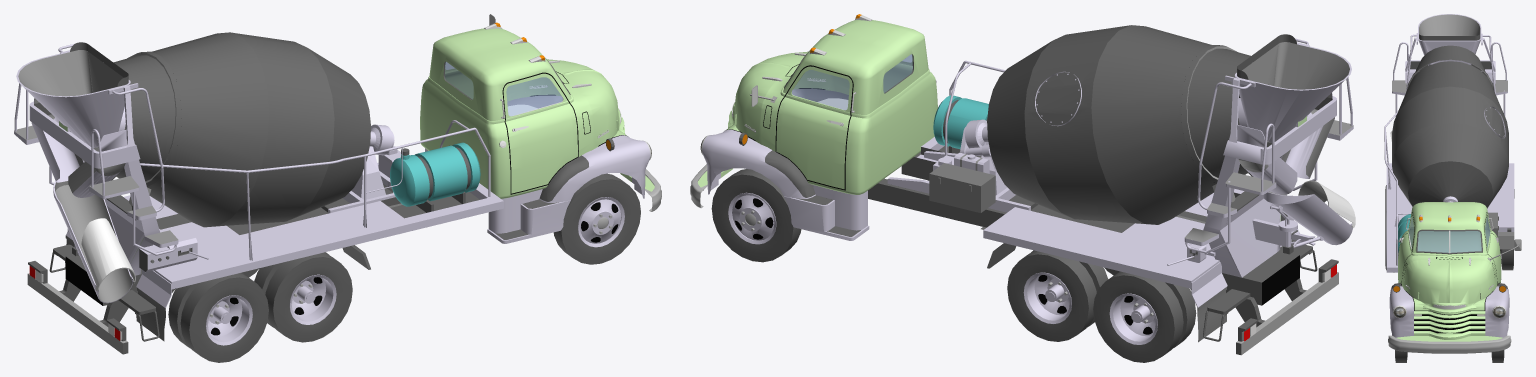
The model's file is concrete-mixer-truck.glb.
3 renders of one model, left to right at view 1: azimuth 30°, elevation 25°; view 2: azimuth 150°, elevation 25°; view 3: azimuth 270°, elevation 25°, orthographic. The views are drawn at different scales.
Parts seen in each view (by area): view 1: Geom3D_9, Geom3D_7, Geom3D_4, Geom3D_16, Geom3D_5, Geom3D_20, Geom3D_12, Geom3D_30, Geom3D_6, Geom3D_27, Geom3D_10, Geom3D_18 (+4 smaller); view 2: Geom3D_9, Geom3D_7, Geom3D_4, Geom3D_16, Geom3D_5, Geom3D_12, Geom3D_18, Geom3D_20, Geom3D_6, Geom3D_10, Geom3D_30, Geom3D_15 (+4 smaller); view 3: Geom3D_9, Geom3D_4, Geom3D_7, Geom3D_20, Geom3D_5, Geom3D_19, Geom3D_6, Geom3D_12, Geom3D_16, Geom3D_22, Geom3D_21, Geom3D_18 (+3 smaller).
Part boxes in pixels (x1,y1,x2,y2): Geom3D_9: (28,32,588,354); Geom3D_7: (14,43,503,307); Geom3D_4: (420,28,654,198); Geom3D_16: (168,58,640,362); Geom3D_5: (205,95,650,345); Geom3D_20: (503,59,619,193); Geom3D_12: (14,50,178,302); Geom3D_30: (390,142,480,206); Geom3D_6: (445,62,562,116); Geom3D_27: (81,218,135,290); Geom3D_10: (27,53,176,354); Geom3D_18: (65,131,402,341); Geom3D_9: (868,25,1338,354); Geom3D_7: (887,38,1353,307); Geom3D_4: (698,20,937,194); Geom3D_16: (711,50,1196,362); Geom3D_5: (702,88,1157,344); Geom3D_12: (960,42,1353,242); Geom3D_18: (929,126,1296,342); Geom3D_20: (734,51,912,141); Geom3D_6: (792,54,912,110); Geom3D_10: (1186,46,1338,354); Geom3D_30: (933,95,988,148); Geom3D_15: (727,64,1152,334); Geom3D_9: (1391,34,1511,288); Geom3D_4: (1396,202,1502,341); Geom3D_7: (1384,14,1514,272); Geom3D_20: (1398,213,1494,306); Geom3D_5: (1389,286,1509,337); Geom3D_19: (1388,239,1521,353); Geom3D_6: (1409,217,1490,252); Geom3D_12: (1392,14,1507,92); Geom3D_16: (1385,185,1513,362); Geom3D_22: (1400,212,1485,333); Geom3D_21: (1393,214,1506,318); Geom3D_18: (1488,79,1514,249).
Size of what is drawn, in the model's own units: 7.41 by 3.32 by 2.26.
21 materials, 1 textured.
